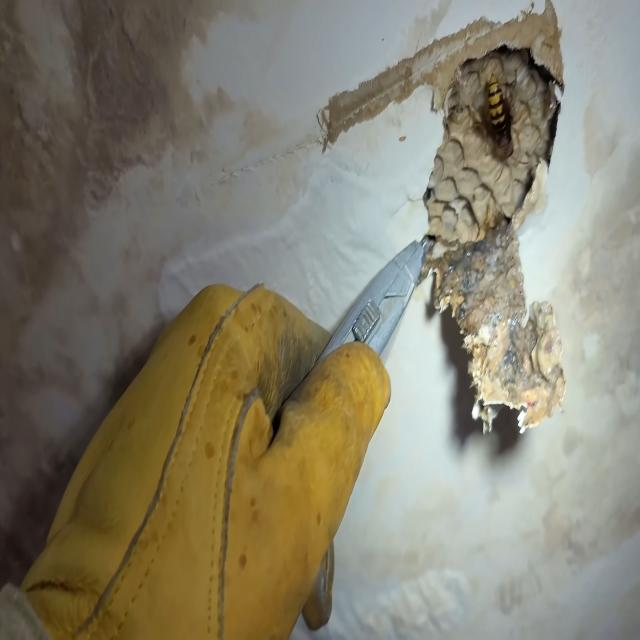Hornets: (468, 63, 522, 166)
